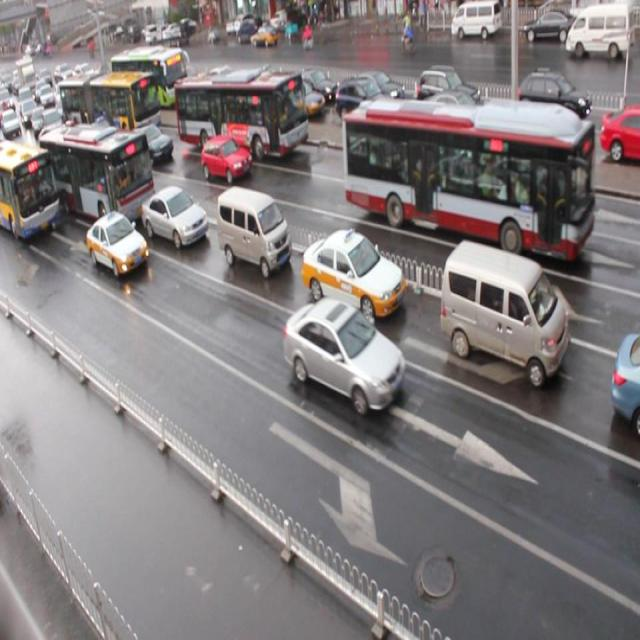car: (284, 297, 406, 416), (300, 228, 404, 321), (141, 185, 208, 250), (86, 210, 150, 276), (200, 134, 252, 184), (132, 123, 174, 164)
truck: (440, 240, 568, 386), (216, 186, 292, 276)
van: (340, 95, 593, 262), (38, 121, 156, 232), (175, 70, 308, 155), (0, 136, 60, 241), (59, 72, 160, 134)
